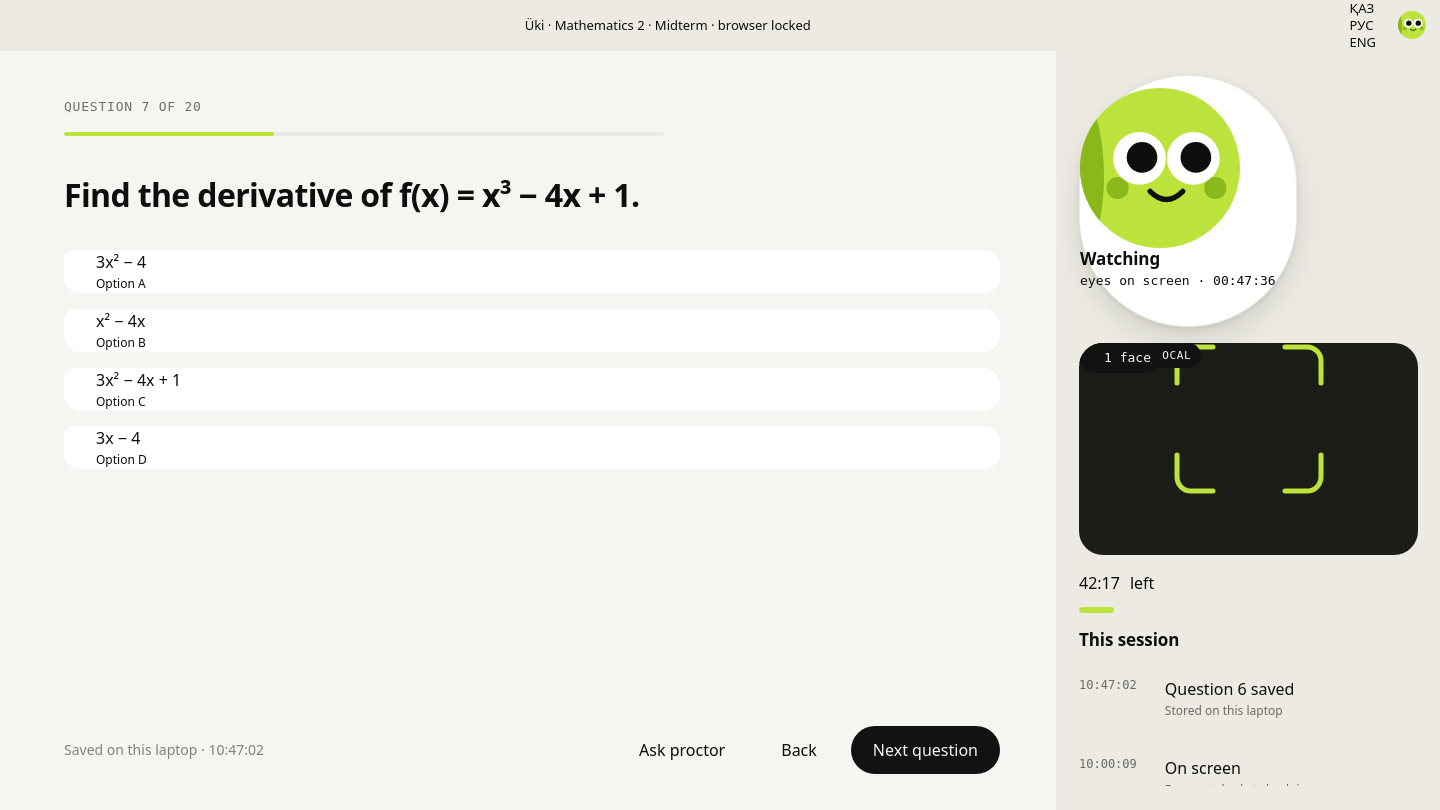
Test: Ask proctor › opens E.5a's sheet on 2.1 and sends the reason and the note
Click the button "Ask proctor" at (682, 750), box [617,726,747,774]
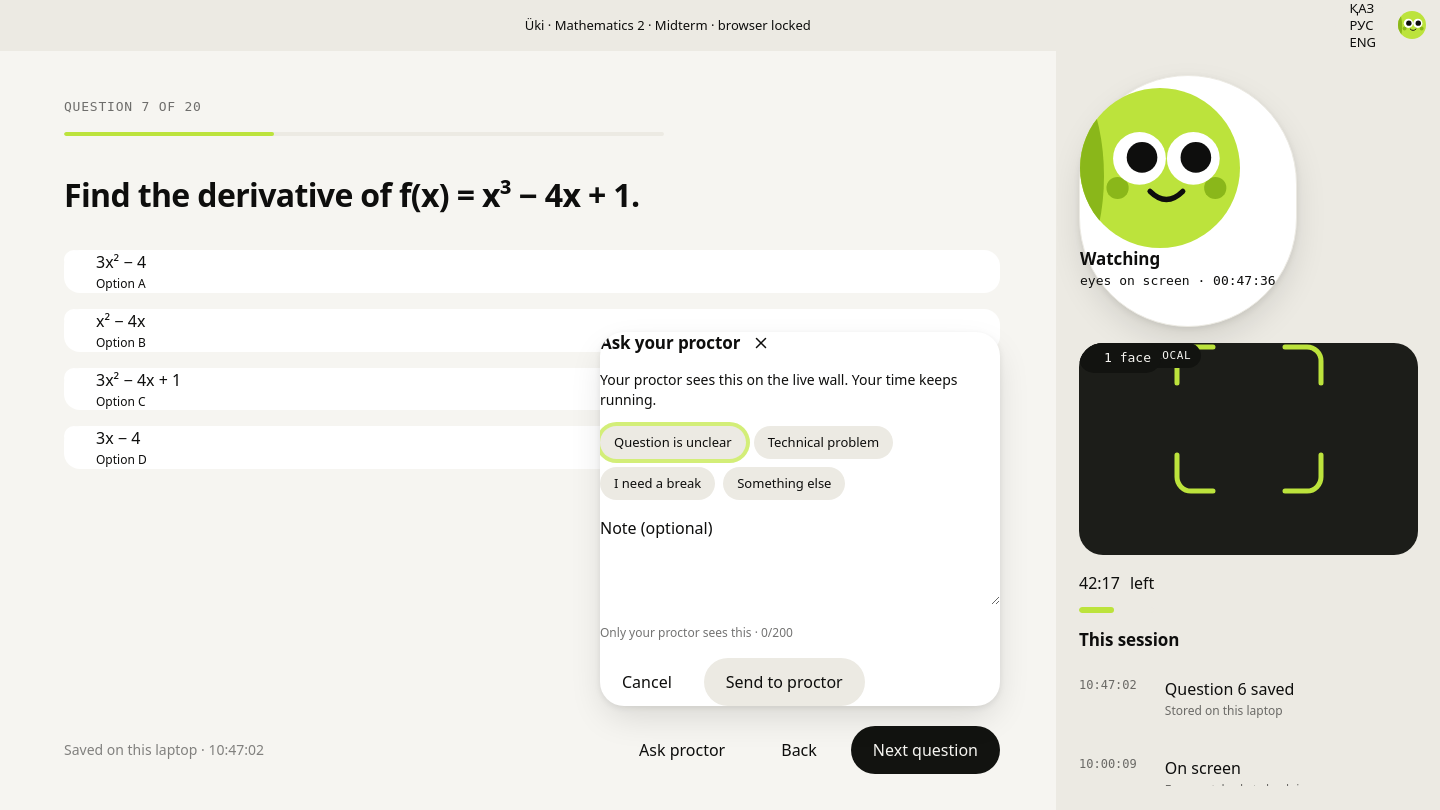
Expected: the button "Send to proctor" is disabled, [704,658,865,706]
Click the radio button labelled "Question is unclear" at (673, 443), box [600,426,746,459]
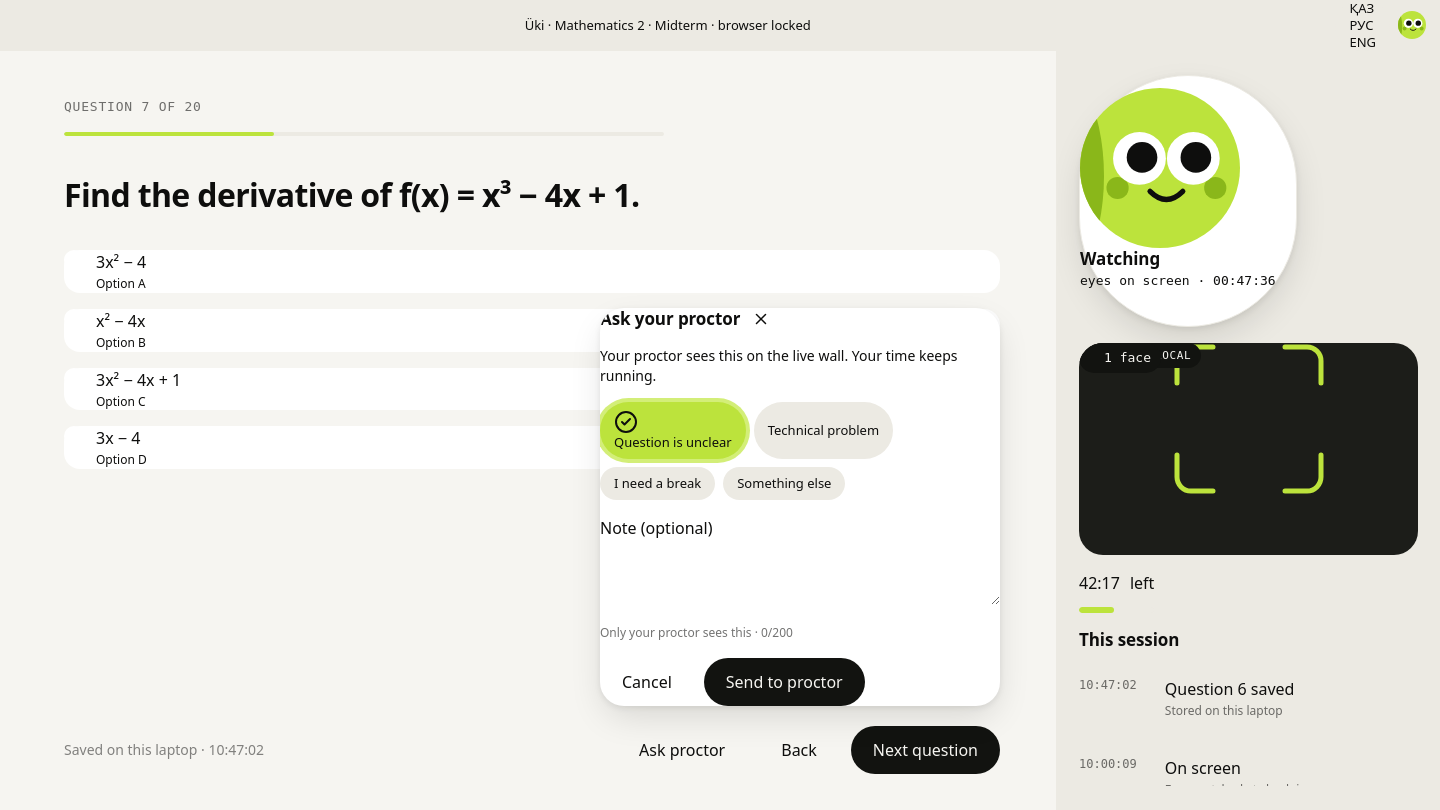
Type " Q 7 " into the text box labelled "Note (optional)" at (807, 583), box [614,560,1000,605]
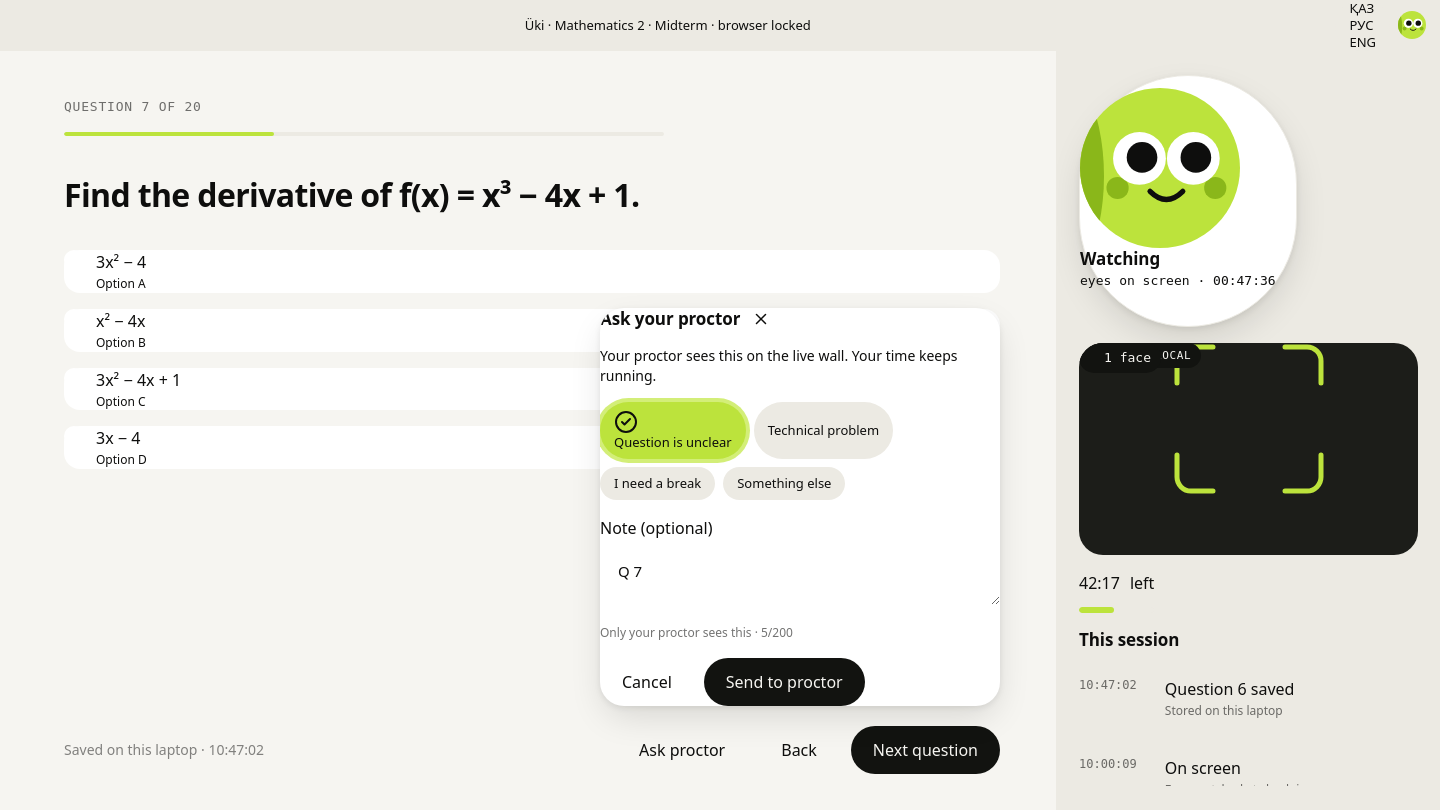
Expected: the text "Only your proctor sees this · 5/200" is shown, [600,625,793,642]
Click the button "Send to proctor" at (784, 682), box [704,658,865,706]
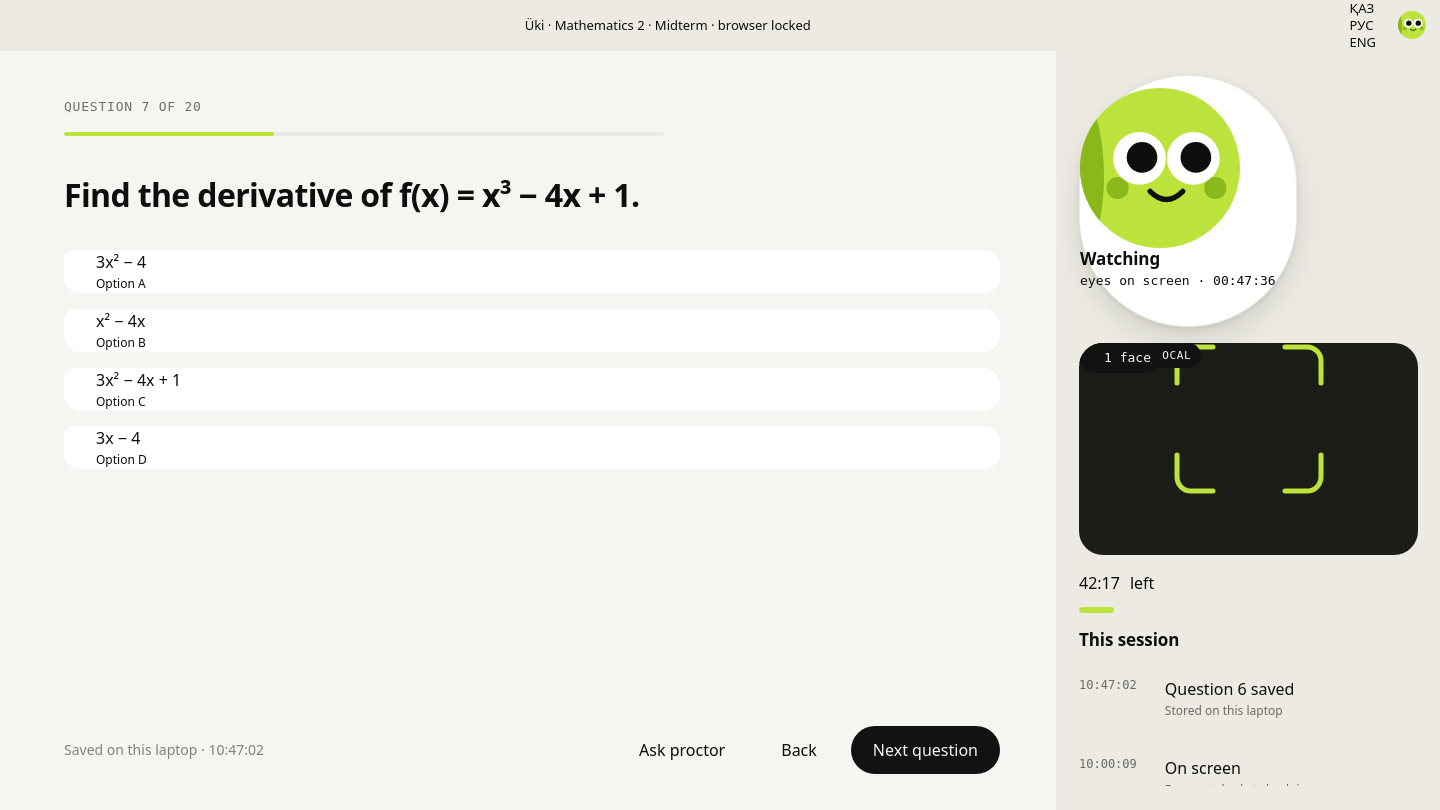
Expected: the heading "Ask your proctor" is gone
